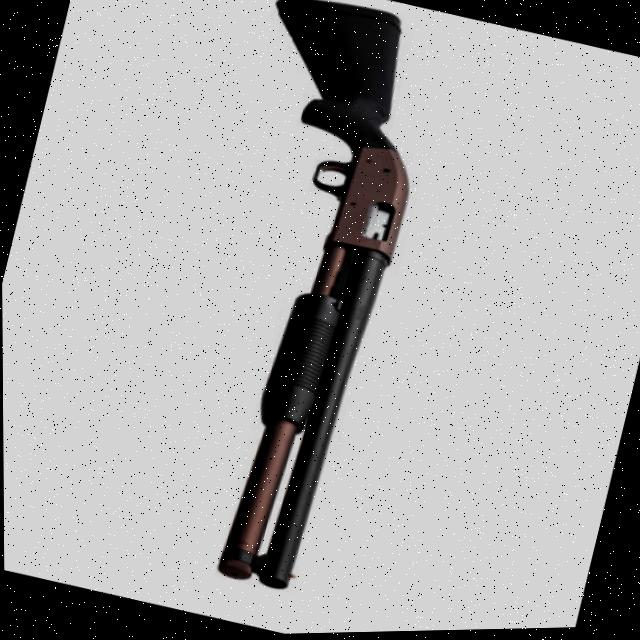firearm: (136, 0, 453, 601)
